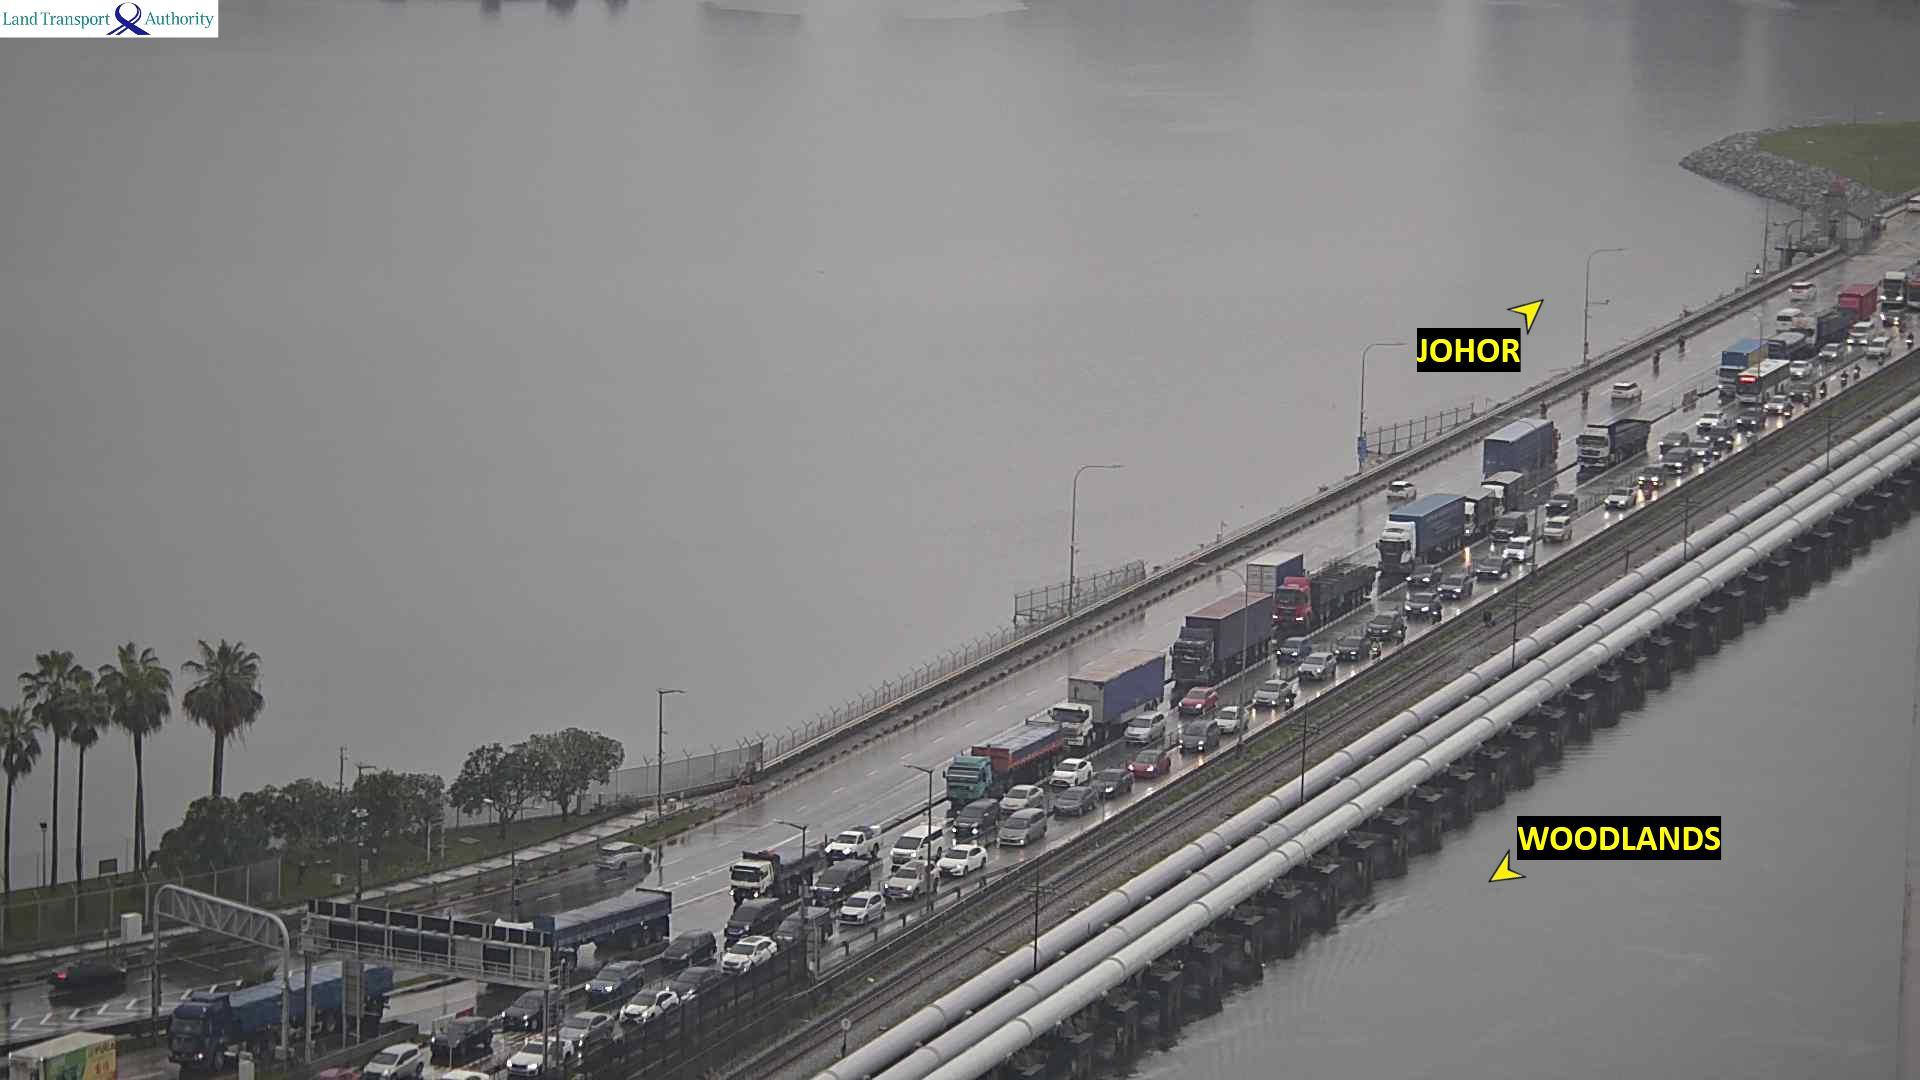vehicle-causeway-johor: (1484, 419, 1559, 473), (47, 960, 121, 989), (1247, 554, 1303, 592), (593, 841, 651, 869), (1611, 382, 1642, 402), (1387, 481, 1416, 501), (1775, 310, 1800, 330), (1791, 284, 1818, 297), (1580, 385, 1589, 406), (1651, 351, 1660, 367), (1539, 400, 1547, 417), (1677, 335, 1685, 349)
vehicle-causeway-singapore: (166, 963, 385, 1051), (480, 901, 666, 984), (1055, 647, 1166, 741), (1175, 592, 1269, 678), (957, 732, 1072, 795), (1265, 558, 1371, 624), (1378, 495, 1464, 570), (0, 1033, 116, 1080), (728, 848, 824, 895), (1578, 419, 1648, 463), (804, 865, 877, 901), (1720, 340, 1766, 392), (502, 992, 564, 1030), (506, 1040, 575, 1075), (620, 994, 698, 1023), (774, 909, 829, 948), (724, 899, 778, 939), (433, 1018, 489, 1055), (719, 939, 783, 969), (585, 965, 649, 996), (823, 828, 880, 861), (367, 1050, 429, 1079), (1796, 306, 1846, 342), (665, 930, 713, 965), (1001, 810, 1051, 844), (891, 828, 942, 862), (666, 969, 717, 1002), (955, 798, 998, 835), (835, 890, 885, 922), (1482, 473, 1523, 510), (935, 851, 988, 878), (559, 1015, 612, 1042), (1735, 364, 1791, 389), (878, 874, 935, 898), (1125, 712, 1163, 746), (1464, 489, 1491, 534), (1841, 287, 1876, 322), (1176, 687, 1215, 716), (1174, 733, 1220, 757), (1000, 786, 1043, 811), (1044, 793, 1096, 814), (1127, 757, 1175, 778), (1052, 760, 1092, 785), (1493, 513, 1527, 541), (1093, 771, 1131, 795), (1882, 273, 1907, 309), (1211, 709, 1250, 732), (1335, 636, 1369, 661), (1278, 637, 1312, 661), (1364, 617, 1404, 637), (1251, 691, 1295, 709), (1294, 658, 1335, 676), (1472, 564, 1514, 582), (1605, 485, 1635, 509), (1663, 450, 1692, 473), (1695, 411, 1727, 431), (1437, 583, 1477, 599), (1847, 322, 1874, 345), (1547, 493, 1578, 512), (1733, 413, 1764, 431), (1544, 517, 1569, 539), (1762, 396, 1792, 414), (1788, 381, 1815, 402), (1863, 338, 1890, 359), (1659, 431, 1688, 450), (1639, 465, 1664, 487), (1813, 345, 1846, 361), (1509, 539, 1532, 560), (1791, 363, 1811, 378), (1905, 332, 1913, 349), (1841, 369, 1847, 388), (1820, 381, 1828, 396), (1854, 364, 1859, 380)
